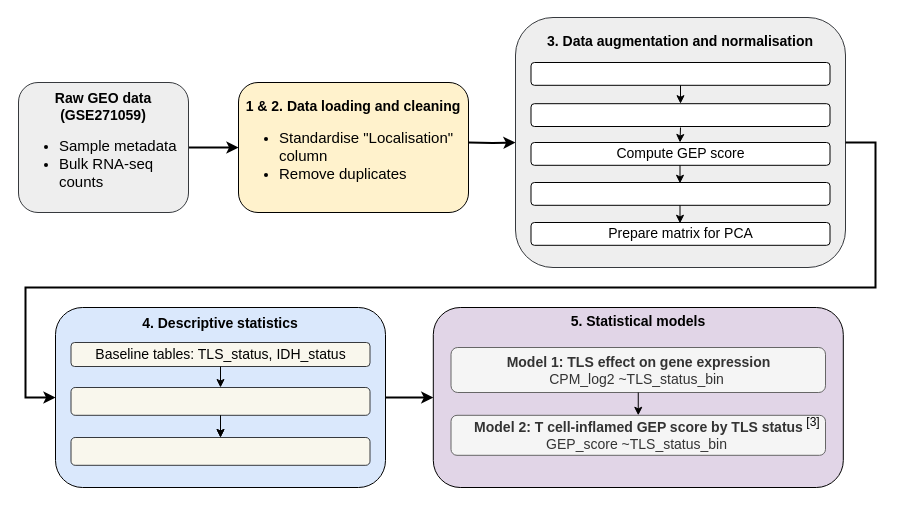
Some shapes in this 901 by 517 pixel diagram are drawn without their labels. Here are the shapes that lost their labels. From the top down, the centre of each, then its label:
the point at 680,73: Create TLS_status_bin
the point at 680,114: CPM + quantile normalisation
the point at 680,193: Join counts + metadata
the point at 220,400: PCA (PC1-PC2 by TLS and IDH)
the point at 220,450: Variance explained by PCs
